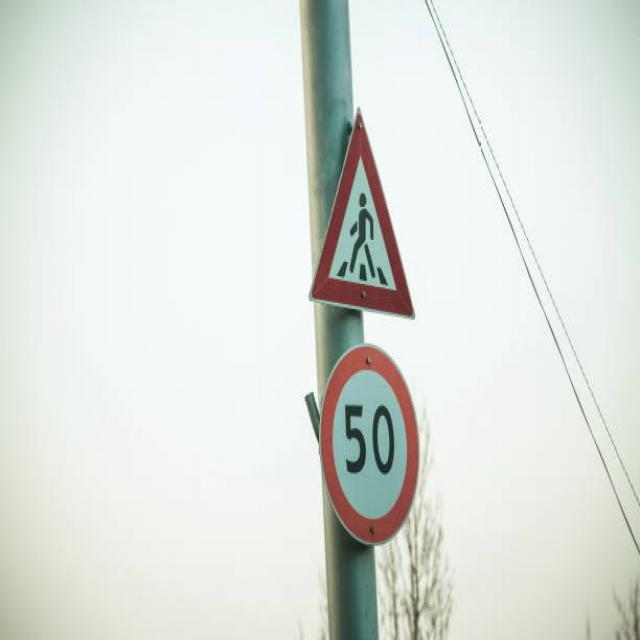speed_limit_50: (312, 334, 439, 562)
